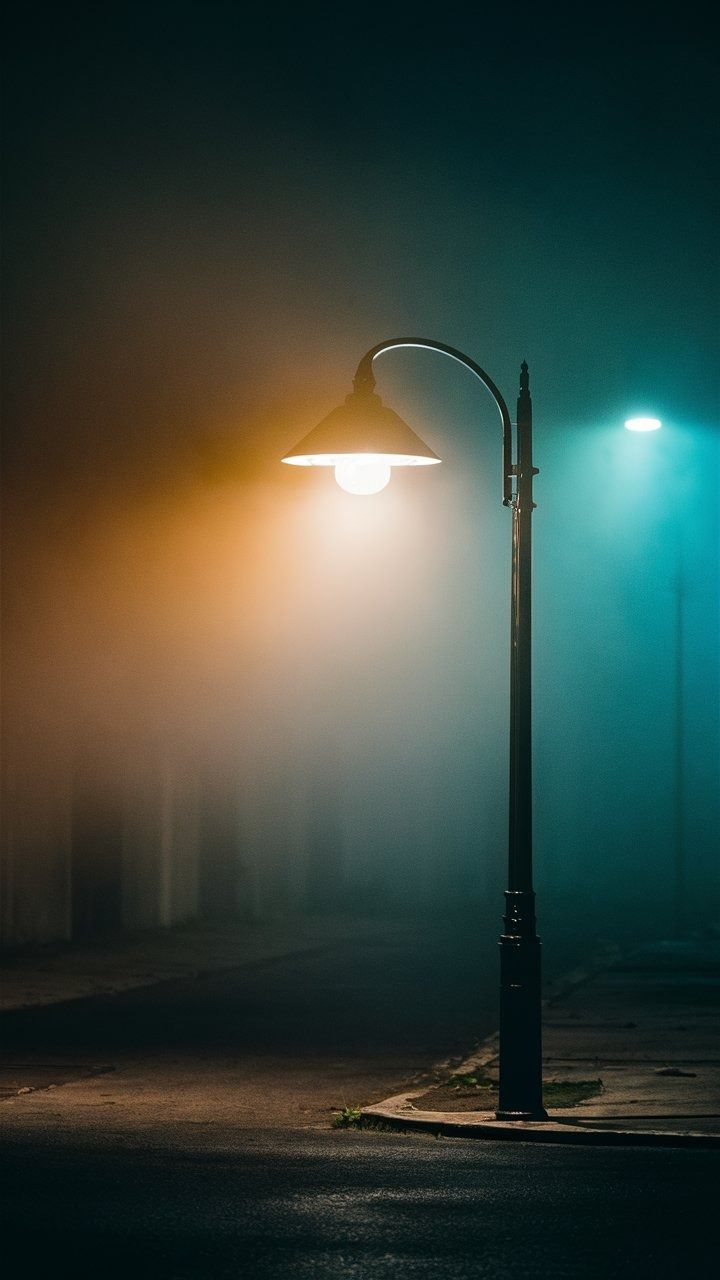Lamp: (259, 317, 606, 1131)
